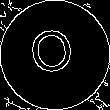O_S: (30, 27, 80, 83)
